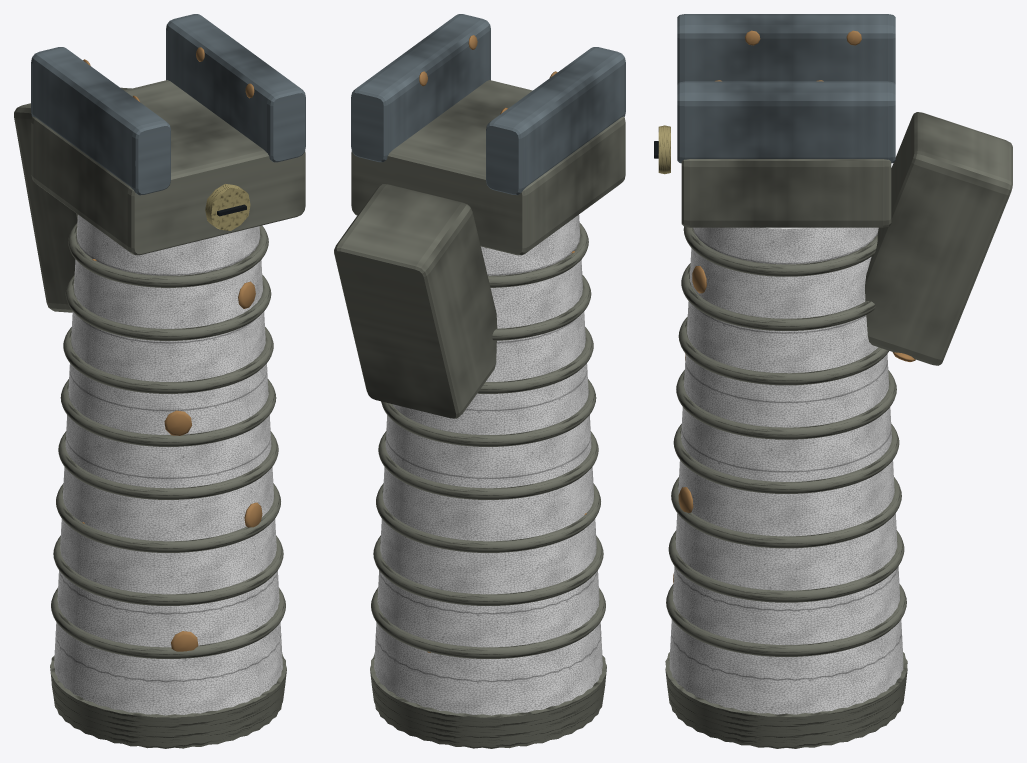
3 renders of one model, left to right at view 1: azimuth 30°, elevation 25°; view 2: azimuth 150°, elevation 25°; view 3: azimuth 270°, elevation 25°, orthographic. The views are drawn at different scales.
Visible parts, largest first — view 1: vulcanized grip, machined receiver, brushed steel, peened pin, edge hardware; view 2: machined receiver, vulcanized grip, brushed steel; view 3: vulcanized grip, machined receiver, brushed steel, peened pin, edge hardware.
Part boxes in pixels (box(x1,y1,x2,y2)): vulcanized grip: box(54, 215, 282, 715); machined receiver: box(14, 80, 305, 748); brushed steel: box(31, 14, 305, 195); peened pin: box(164, 281, 262, 651); edge hardware: box(205, 184, 250, 230); machined receiver: box(334, 80, 625, 748); vulcanized grip: box(374, 215, 602, 715); brushed steel: box(351, 14, 625, 195); vulcanized grip: box(669, 227, 903, 714); machined receiver: box(665, 112, 1012, 748); brushed steel: box(677, 14, 895, 163); peened pin: box(673, 266, 706, 583); edge hardware: box(658, 125, 670, 174).
Size of the model in its own units: 0.0577 by 0.1697 by 0.0855.
Materials: 6 (4 with a texture image).
